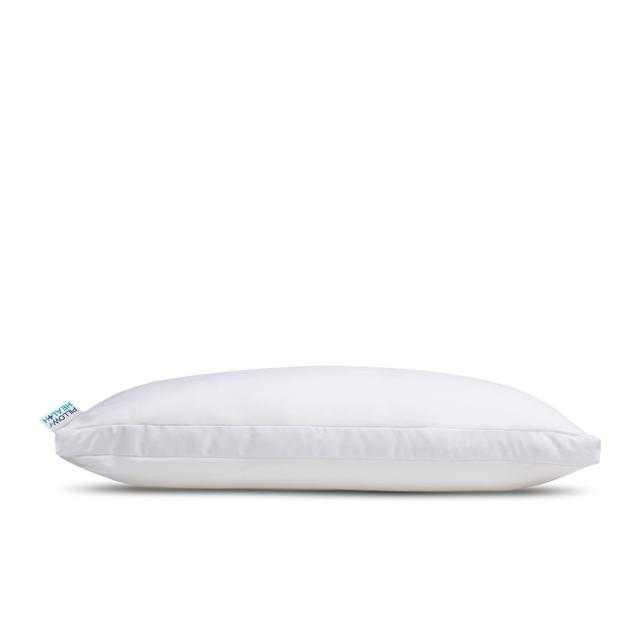pillow: (52, 363, 600, 493)
